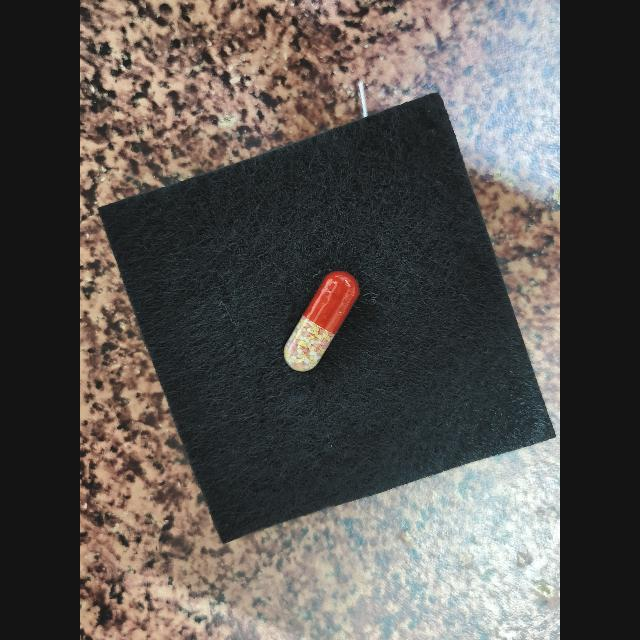Intact Capsule: (284, 271, 359, 372)
